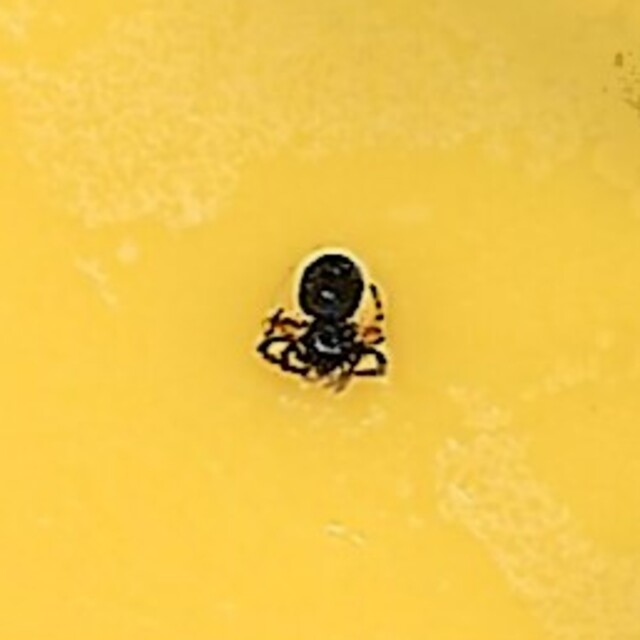Araneae: (249, 242, 391, 398)
